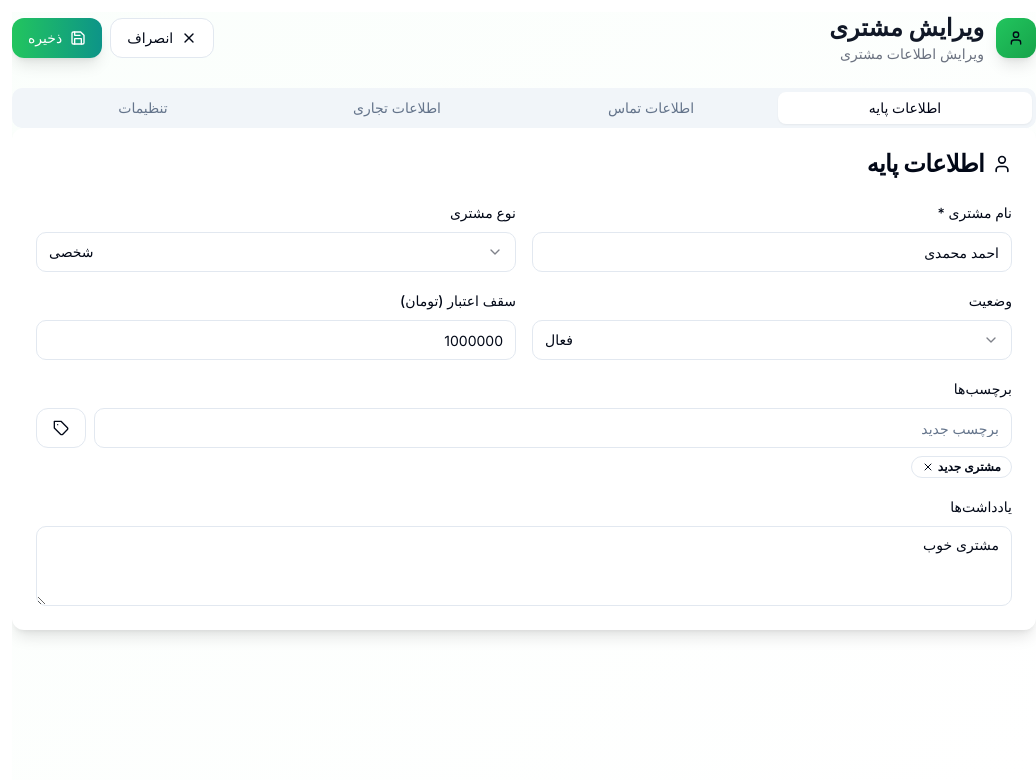
Test case: CustomerForm › handles contact information correctly
This screenshot has width=1036, height=780.
# Switch to contact tab
Click the button "اطلاعات تماس": (651, 108) left=524, top=92, right=778, bottom=124
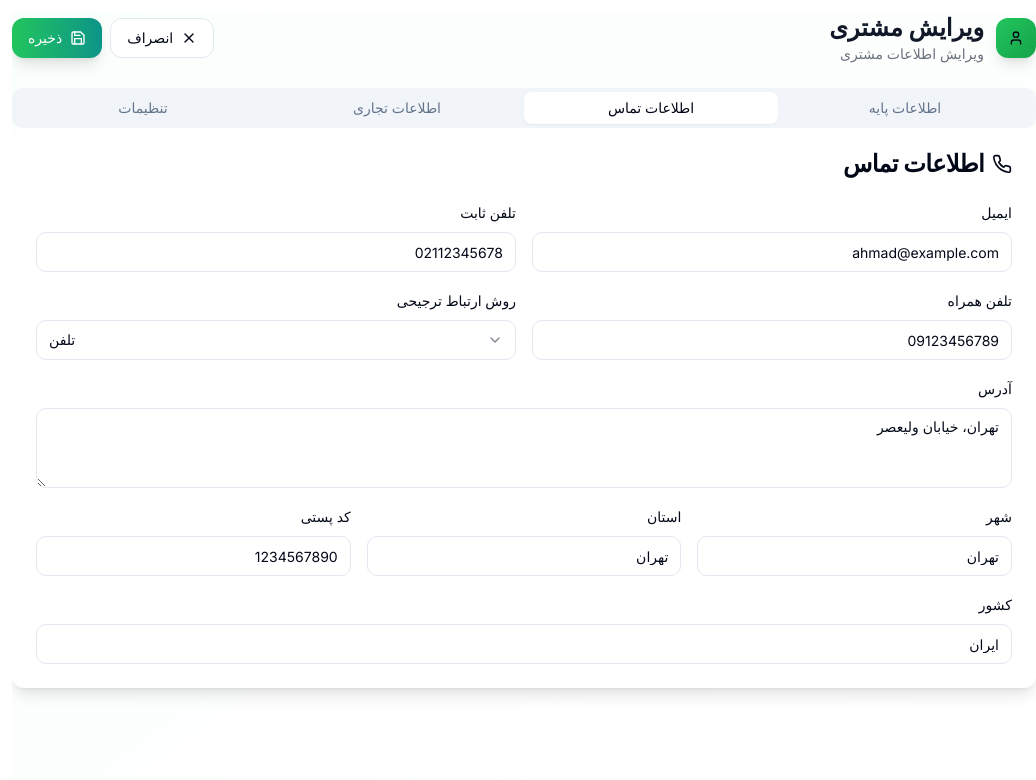
Now the field showing "ahmad@example.com" is shown, box left=532, top=232, right=1012, bottom=272
Now the field showing "02112345678" is shown, box left=36, top=232, right=516, bottom=272
Now the field showing "09123456789" is shown, box left=532, top=320, right=1012, bottom=360
